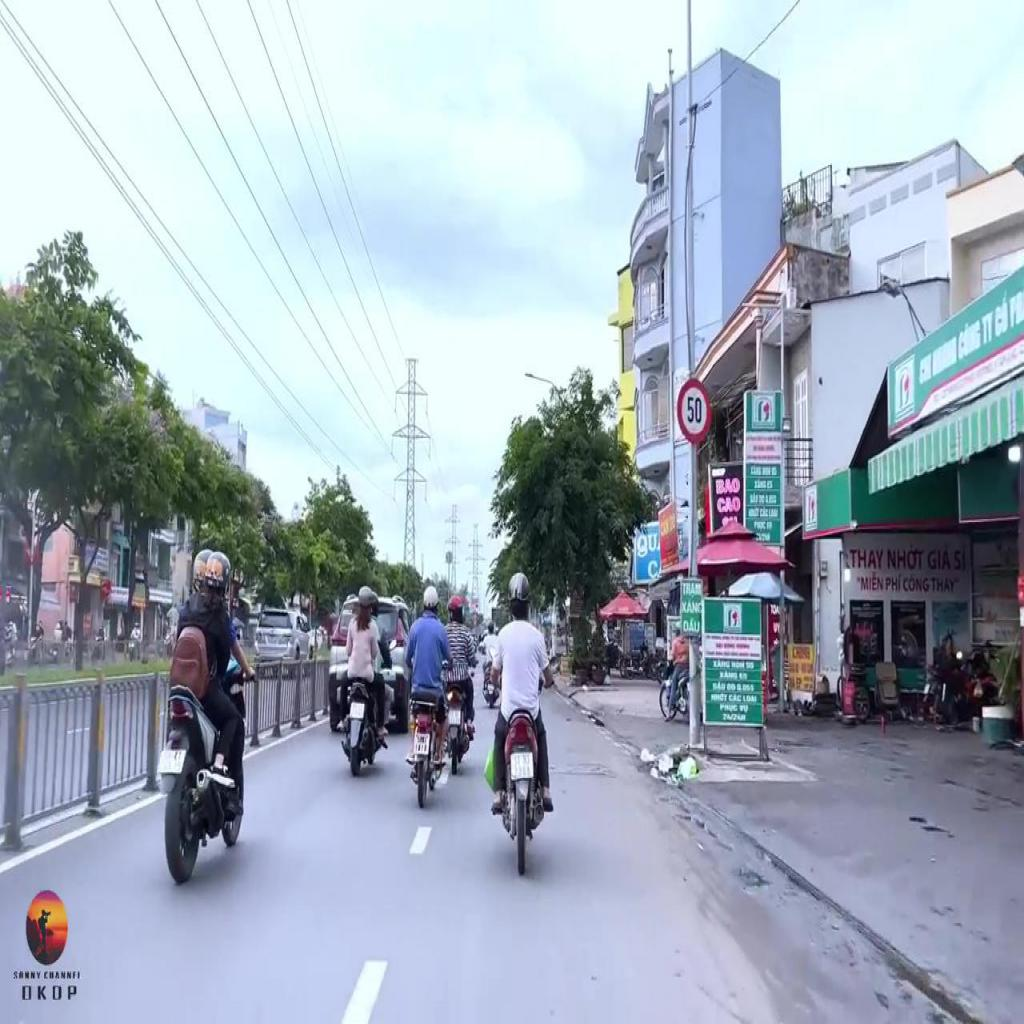toc_do_toi_da_50: (675, 375, 713, 444)
